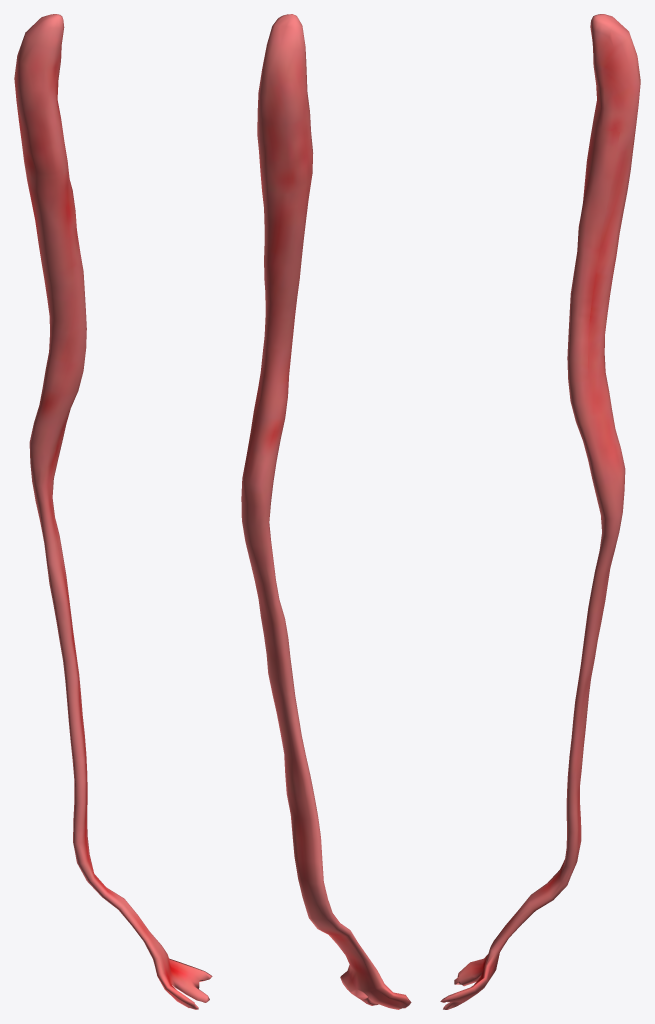
The model's file is Superficial_Digital_Flexor.glb.
The picture shows the model from 3 angles, left to right: view 1: azimuth 90°, elevation 25°; view 2: azimuth 150°, elevation 25°; view 3: azimuth 270°, elevation 25°; orthographic projection. The views are drawn at different scales.
Visible parts, largest first — view 1: superficial_digital_flexor1.011; view 2: superficial_digital_flexor1.011; view 3: superficial_digital_flexor1.011.
Boxes of the visible parts, x1,y1,x2,y2 form: superficial_digital_flexor1.011: (14, 14, 212, 1009); superficial_digital_flexor1.011: (241, 14, 411, 1009); superficial_digital_flexor1.011: (440, 14, 640, 1009).
Size of the model in its own units: 0.0727 by 0.7729 by 0.1411.
1 material, 1 textured.
